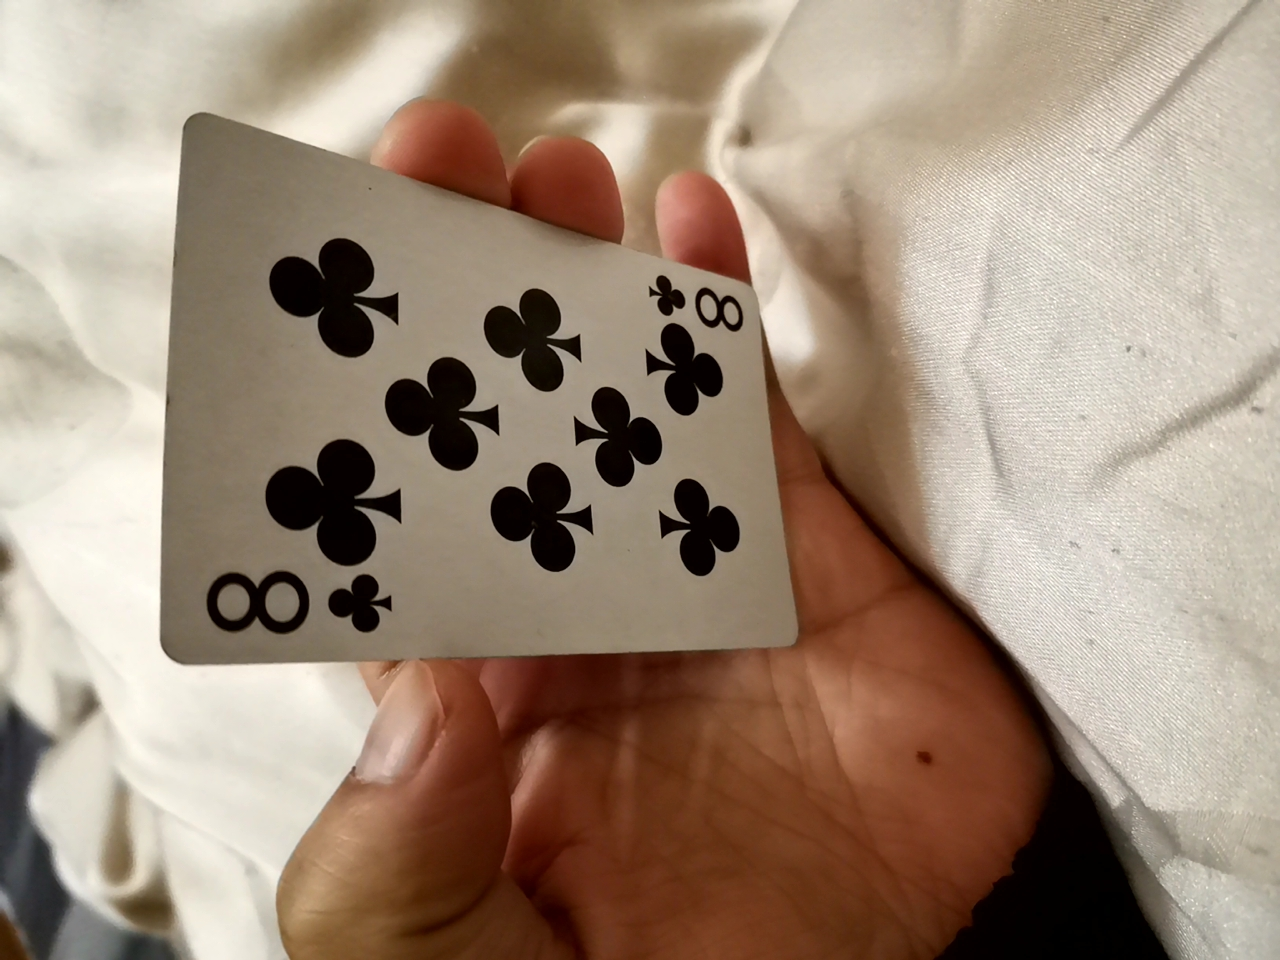mh 8: (158, 154, 805, 695)
